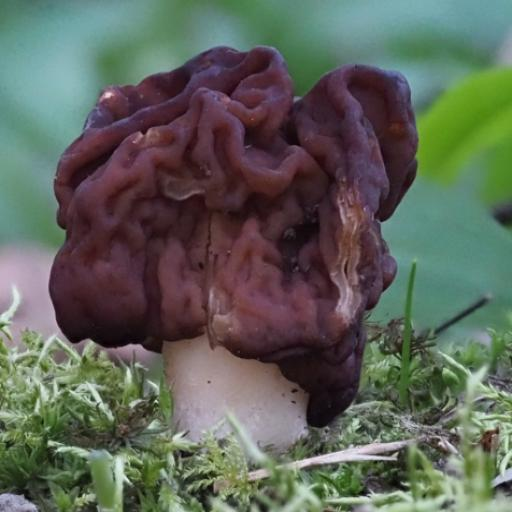mushroom: (15, 15, 424, 450)
